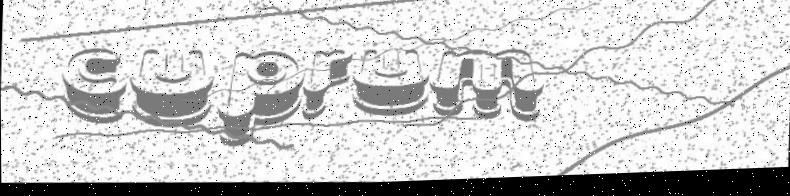c: (59, 46, 128, 128)
m: (428, 48, 545, 130)
p: (215, 49, 305, 151)
r: (301, 49, 353, 125)
u: (127, 44, 215, 131), (350, 48, 431, 123)
